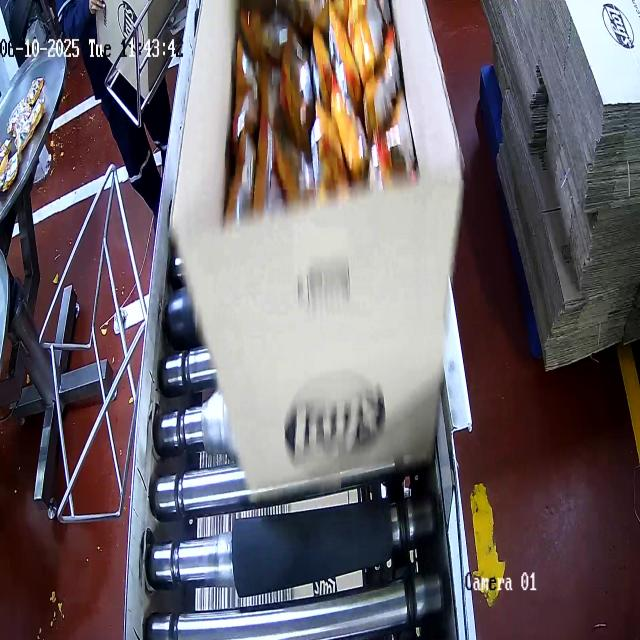FRENCH_CHEESE: (224, 0, 417, 214)
